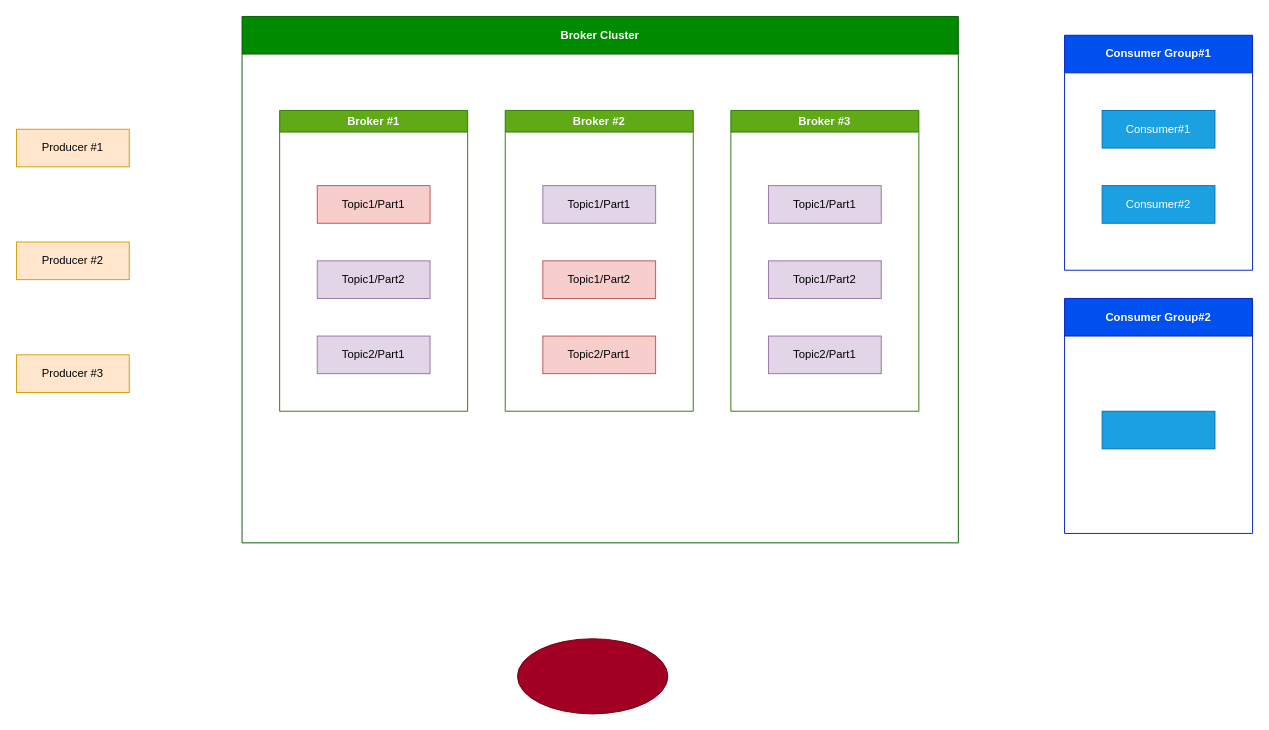
Image size: 1269x730. Some labels were removed from this diagram. Here are the shapes that lost their labels. From the top down, the centre of each, then its label:
At [1158,429]: "Consumer#3".
At [592,676]: "ZooKeeper".
